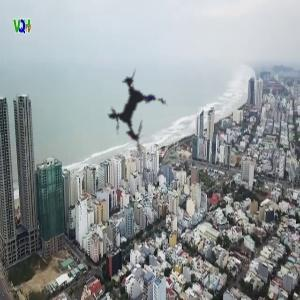drone: (67, 43, 204, 180)
